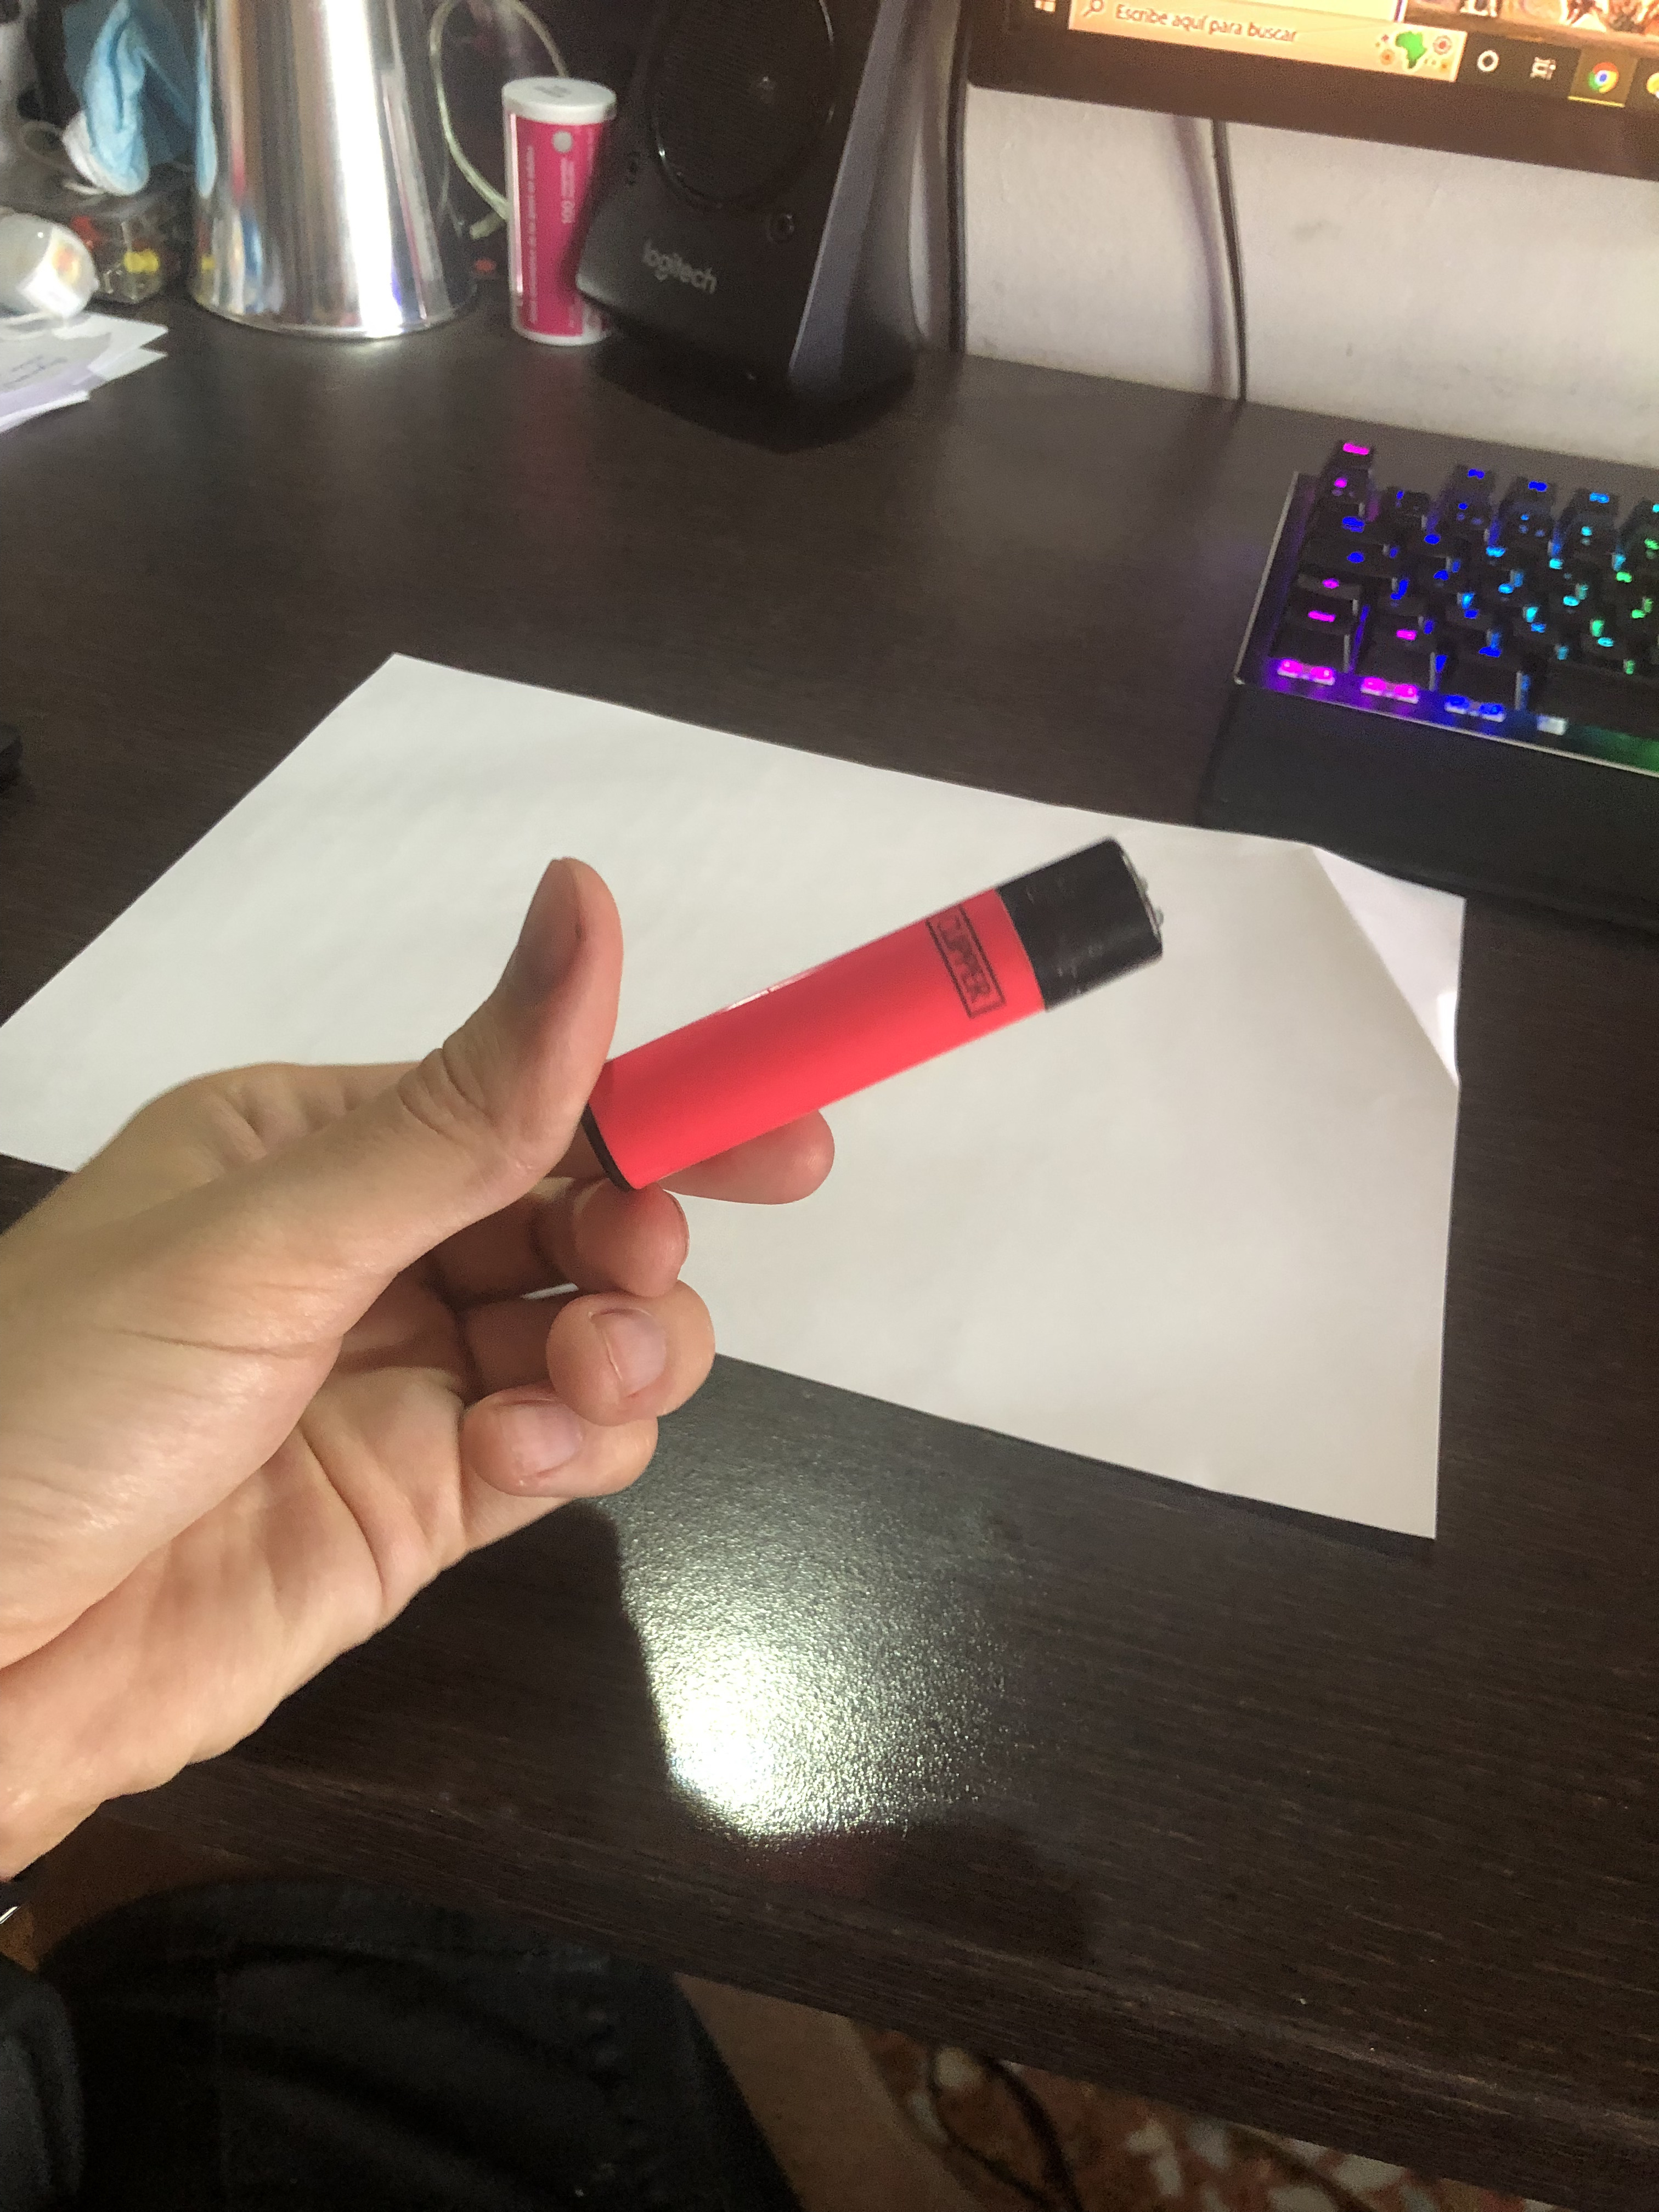Mechero: (570, 833, 1178, 1221)
